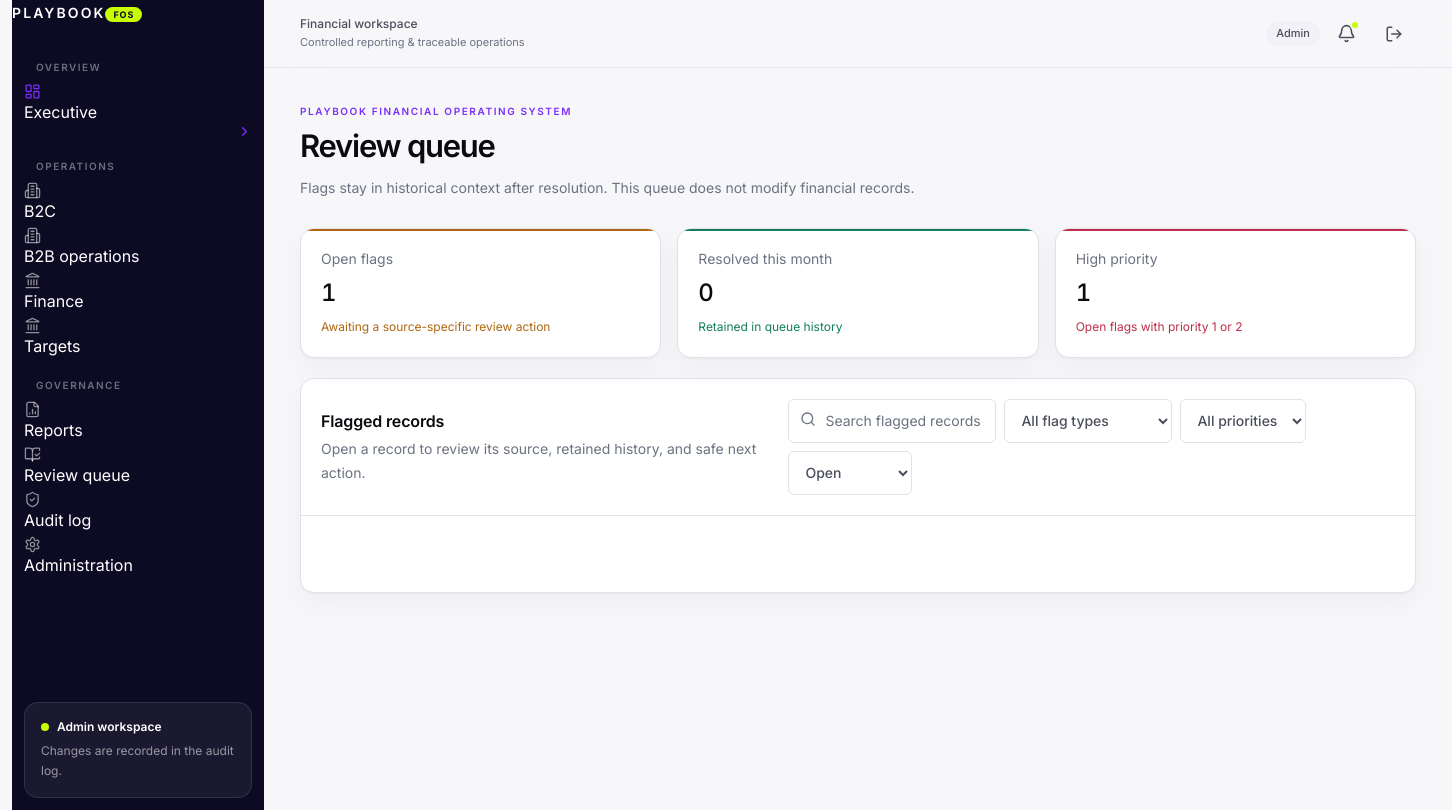
Test: UI foundation › refetches live queue results when the flag-type filter changes
This screenshot has width=1452, height=810.
Select "Failed" in the dropdown named "Filter queue by flag type" at (1088, 421), box [1004,399,1172,443]
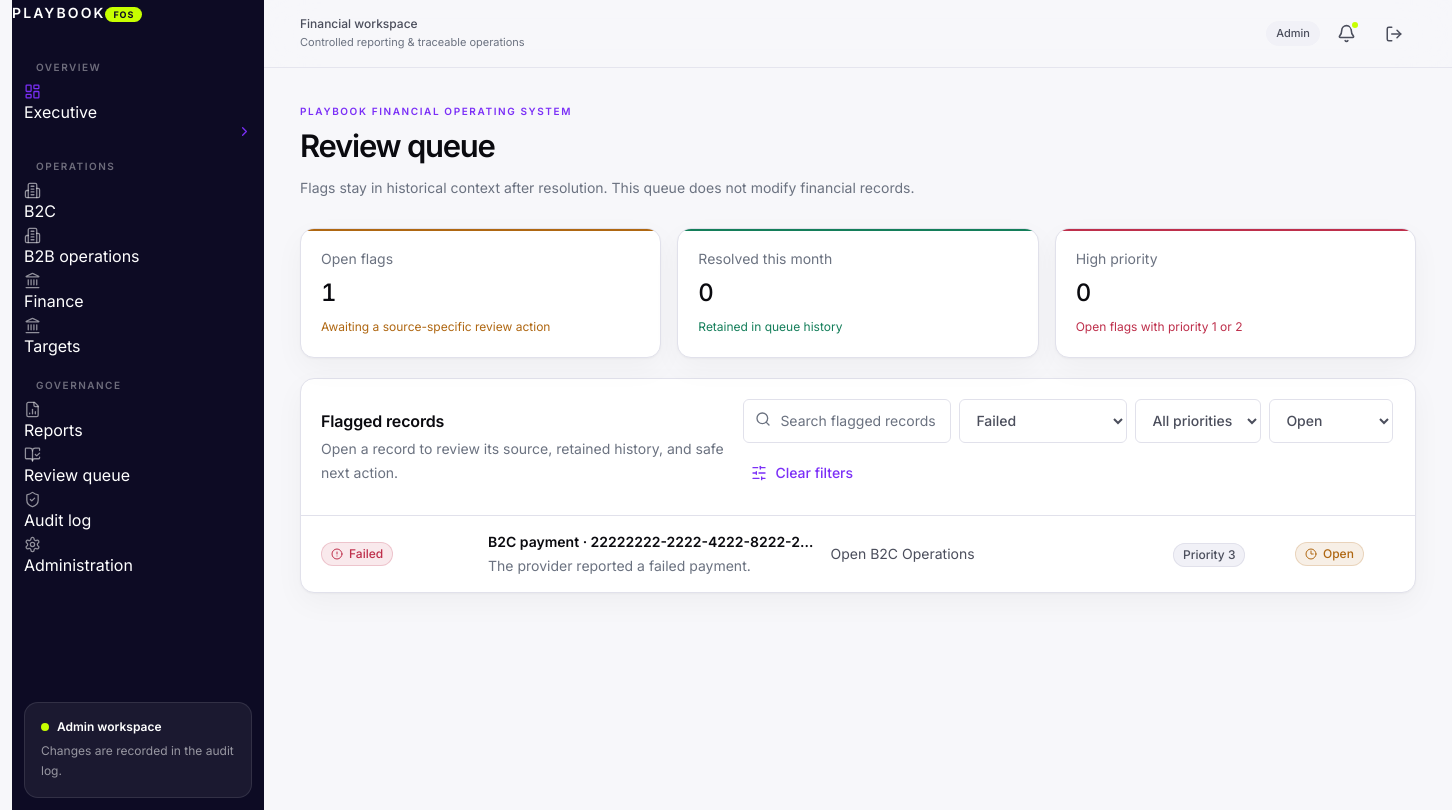
Check: the text "B2C payment · 22222222-2222-4222-8222-222222222222" is shown, box [488,532,818,552]
